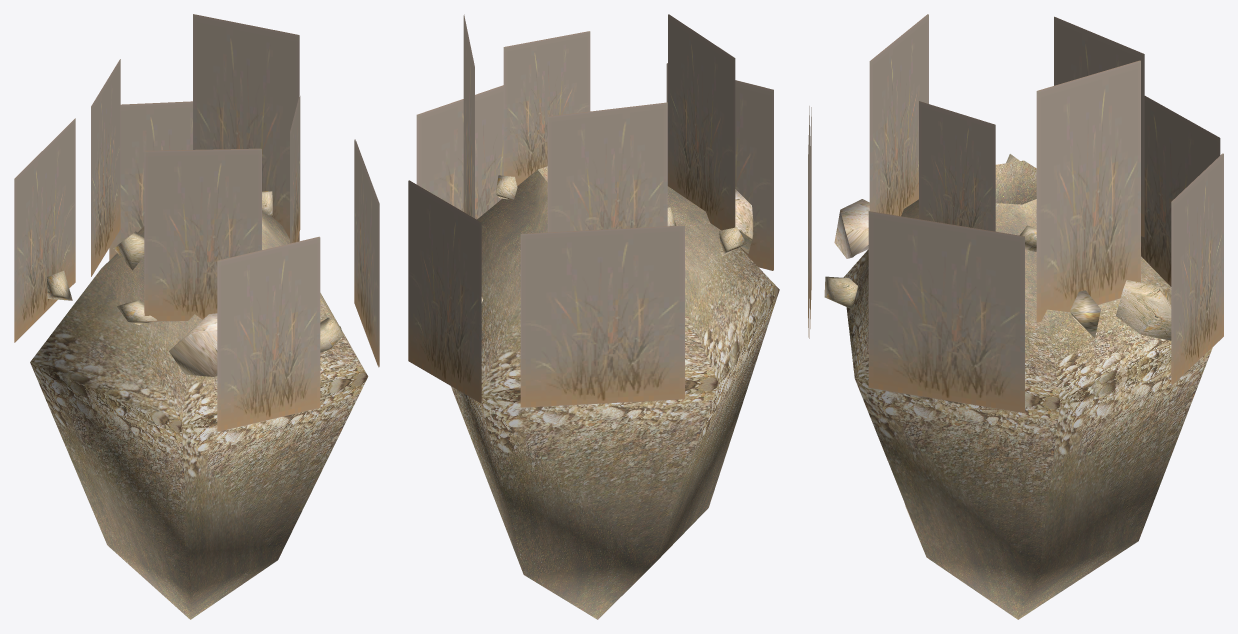
File: poi_all_lair_antpile_light_large_l2.fbx
3 renders of one model, left to right at view 1: azimuth 30°, elevation 25°; view 2: azimuth 150°, elevation 25°; view 3: azimuth 270°, elevation 25°, orthographic. The views are drawn at different scales.
Parts seen in each view (by area): view 1: mesh_node; view 2: mesh_node; view 3: mesh_node.
Boxes of the visible parts, <box> form: mesh_node: <box>14,14,379,619</box>; mesh_node: <box>408,14,779,619</box>; mesh_node: <box>808,14,1223,619</box>.
Size of the model in its own units: 8.51 by 14.64 by 9.34.
